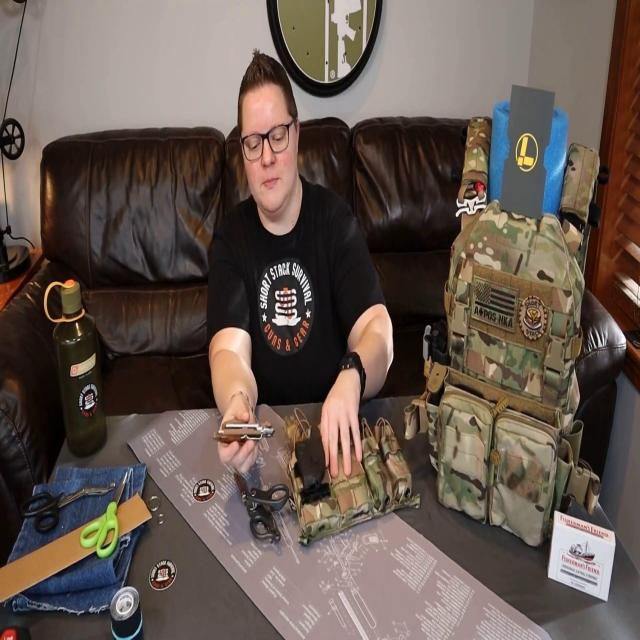scissor: (21, 481, 115, 531), (80, 472, 128, 558), (235, 473, 288, 545)
